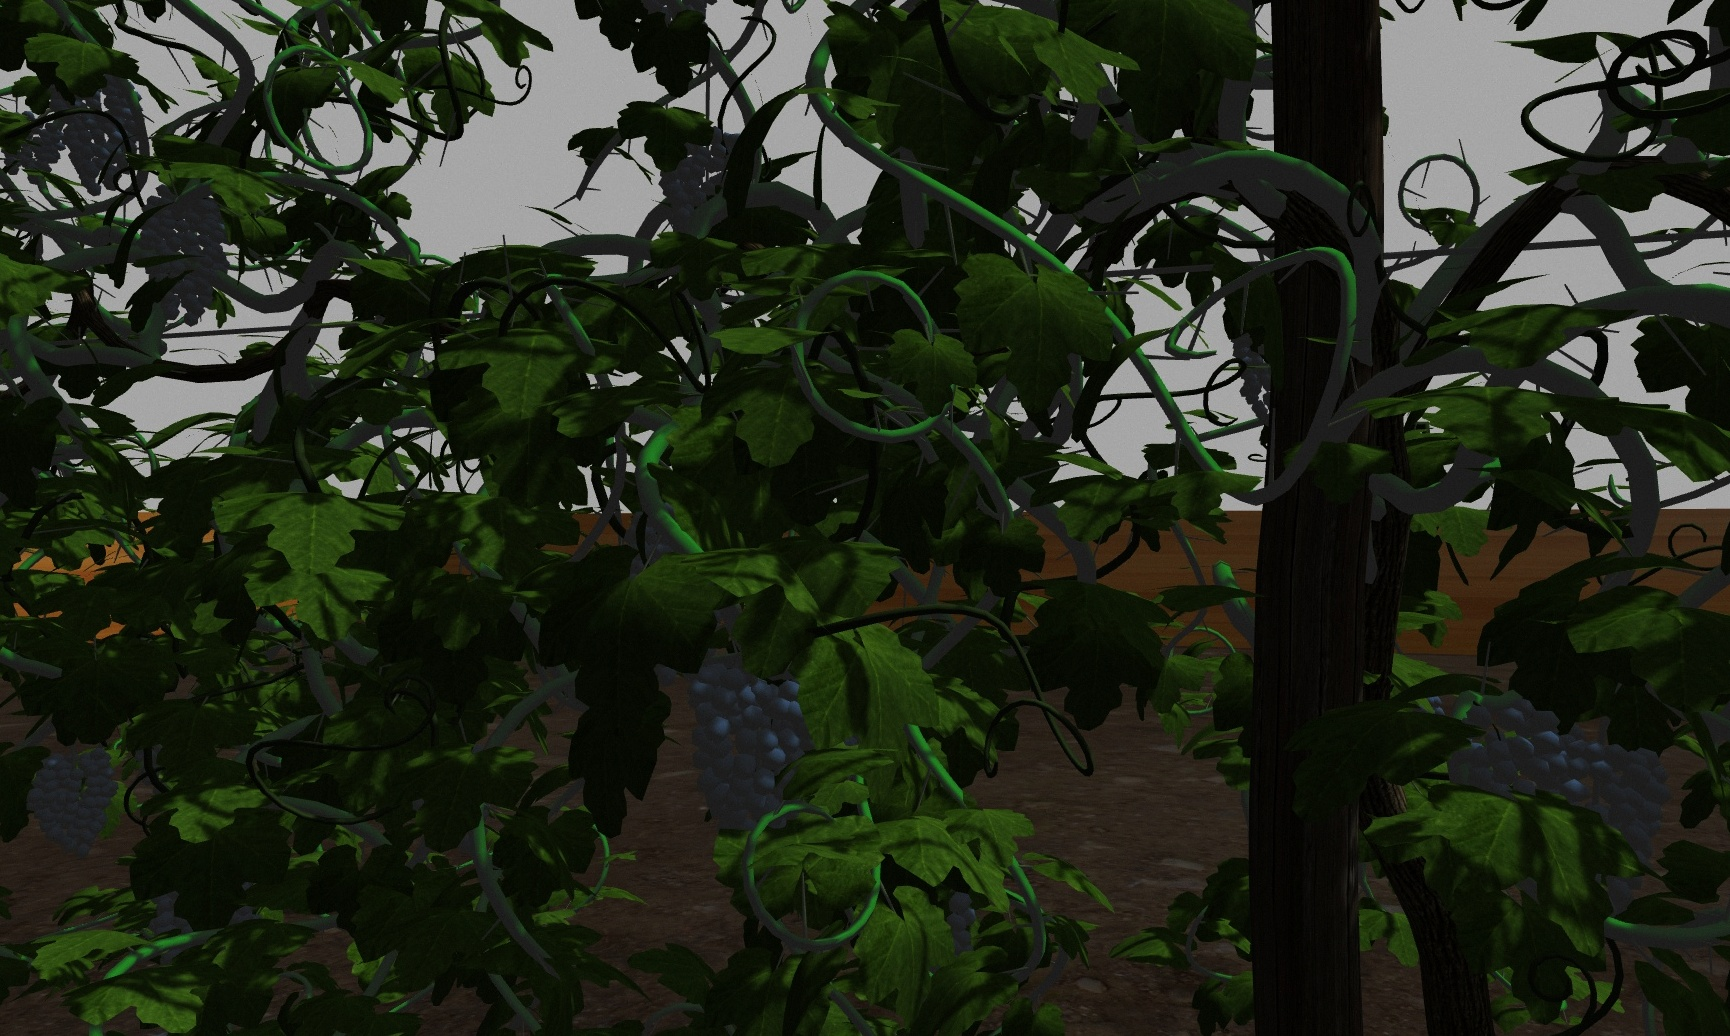grape: (687, 672, 804, 841), (1573, 742, 1671, 911), (1440, 698, 1566, 800), (137, 187, 231, 319), (23, 750, 120, 858), (62, 72, 141, 192), (657, 137, 729, 223), (11, 100, 62, 186)
